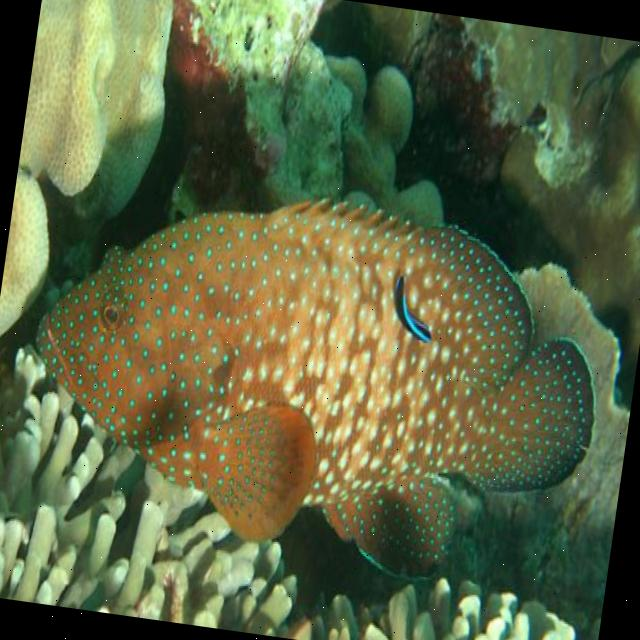ikan: (8, 154, 622, 602)
